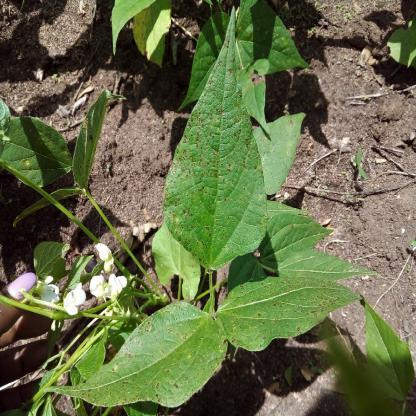Beans_Angular_LeafSpot: (154, 18, 265, 264), (37, 291, 228, 408), (220, 274, 364, 356)
